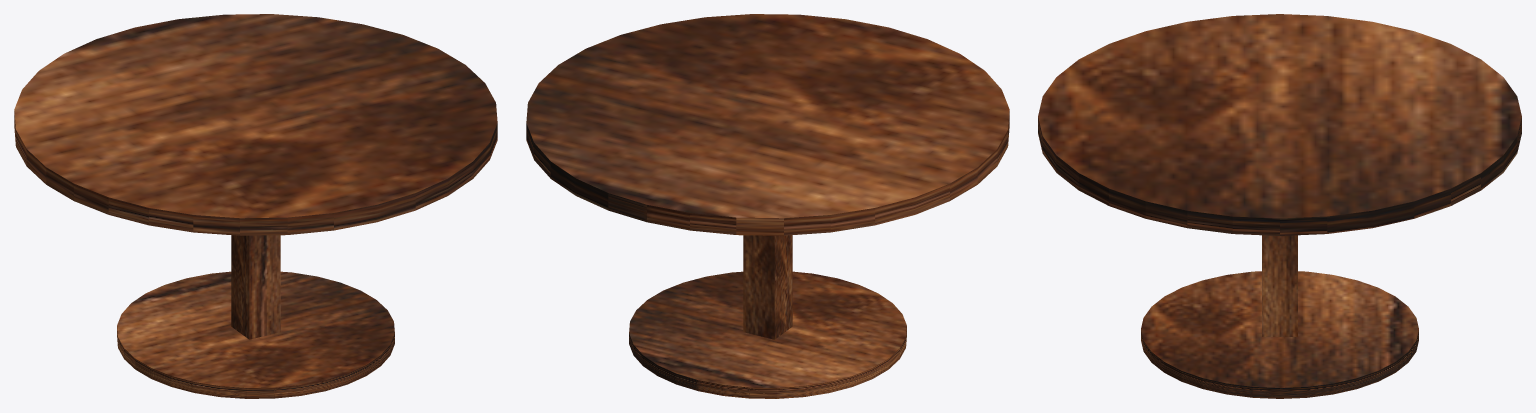
File: table.glb
3 views of the same model, side by side, from view 1: azimuth 30°, elevation 25°; view 2: azimuth 150°, elevation 25°; view 3: azimuth 270°, elevation 25° (orthographic).
Parts seen in each view (by area): view 1: Cylinder, Cylinder.001, Cube.010; view 2: Cylinder, Cylinder.001, Cube.010; view 3: Cylinder, Cylinder.001, Cube.010.
Part boxes in pixels (left/top/right/bottom): Cylinder: left=14, top=14, right=497, bottom=235; Cylinder.001: left=117, top=271, right=394, bottom=398; Cube.010: left=231, top=235, right=280, bottom=339; Cylinder: left=526, top=14, right=1009, bottom=235; Cylinder.001: left=629, top=271, right=906, bottom=398; Cube.010: left=743, top=235, right=792, bottom=339; Cylinder: left=1038, top=14, right=1521, bottom=235; Cylinder.001: left=1141, top=271, right=1418, bottom=398; Cube.010: left=1262, top=235, right=1297, bottom=336.
Bounding box in the file's own units: 2 × 1.02 × 2.
Materials: 3 (3 with a texture image).
